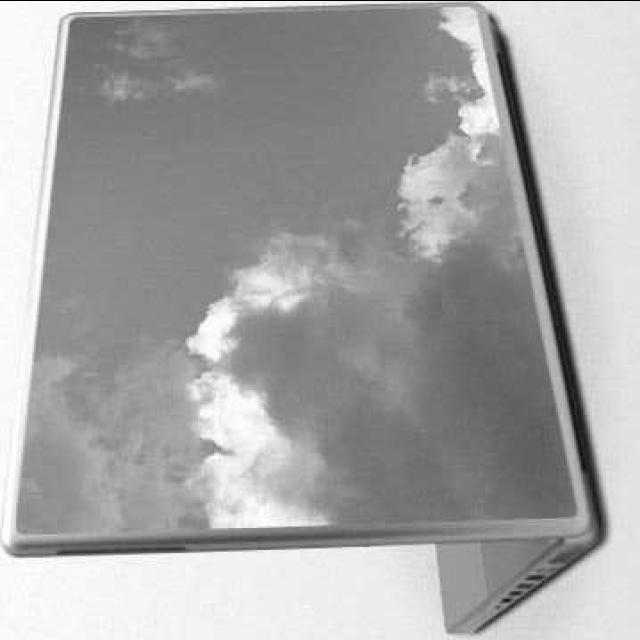laptop: (1, 0, 601, 625)
